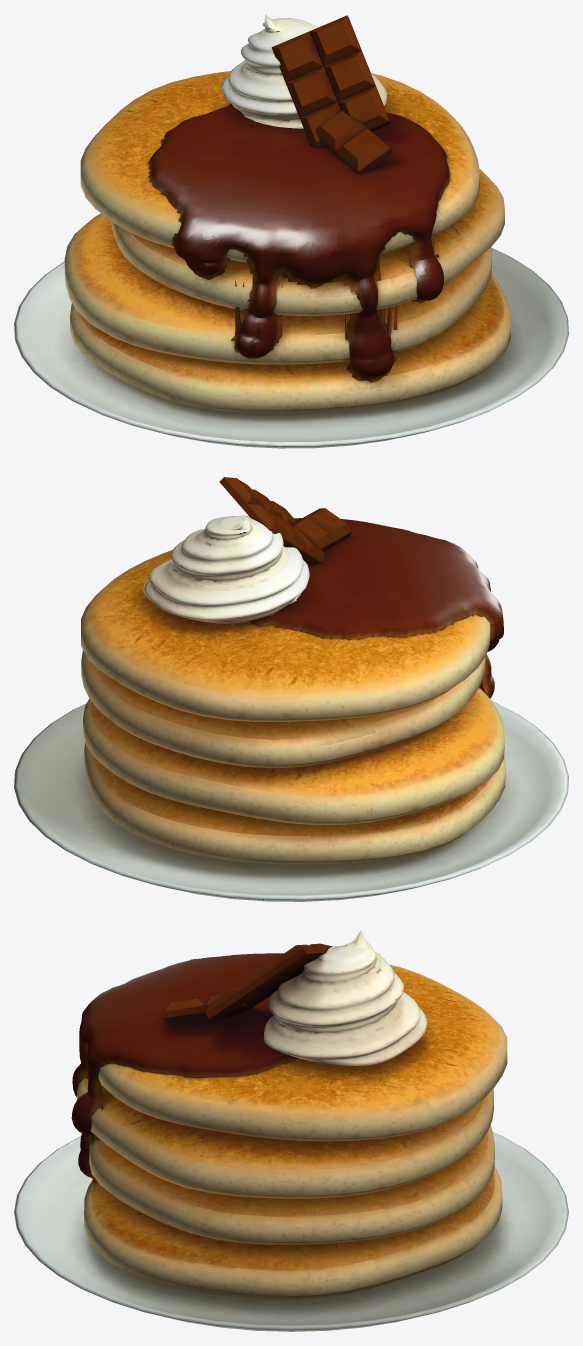
File: pancake--choco-chip.glb
3 views of the same model, one above another, from view 1: azimuth 30°, elevation 25°; view 2: azimuth 150°, elevation 25°; view 3: azimuth 270°, elevation 25° (orthographic).
Visible parts, largest first — view 1: pancake_choco-chip; view 2: pancake_choco-chip; view 3: pancake_choco-chip.
Boxes of the visible parts, x1,y1,x2,y2 form: pancake_choco-chip: (14,14,568,448); pancake_choco-chip: (14,477,568,901); pancake_choco-chip: (14,930,568,1331).
Bounding box in the file's own units: 1.14 × 0.7249 × 1.14.
1 material, 1 textured.
